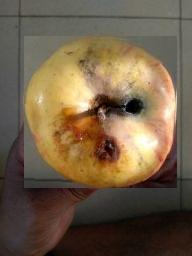Apple Rotten: (24, 36, 177, 188)
